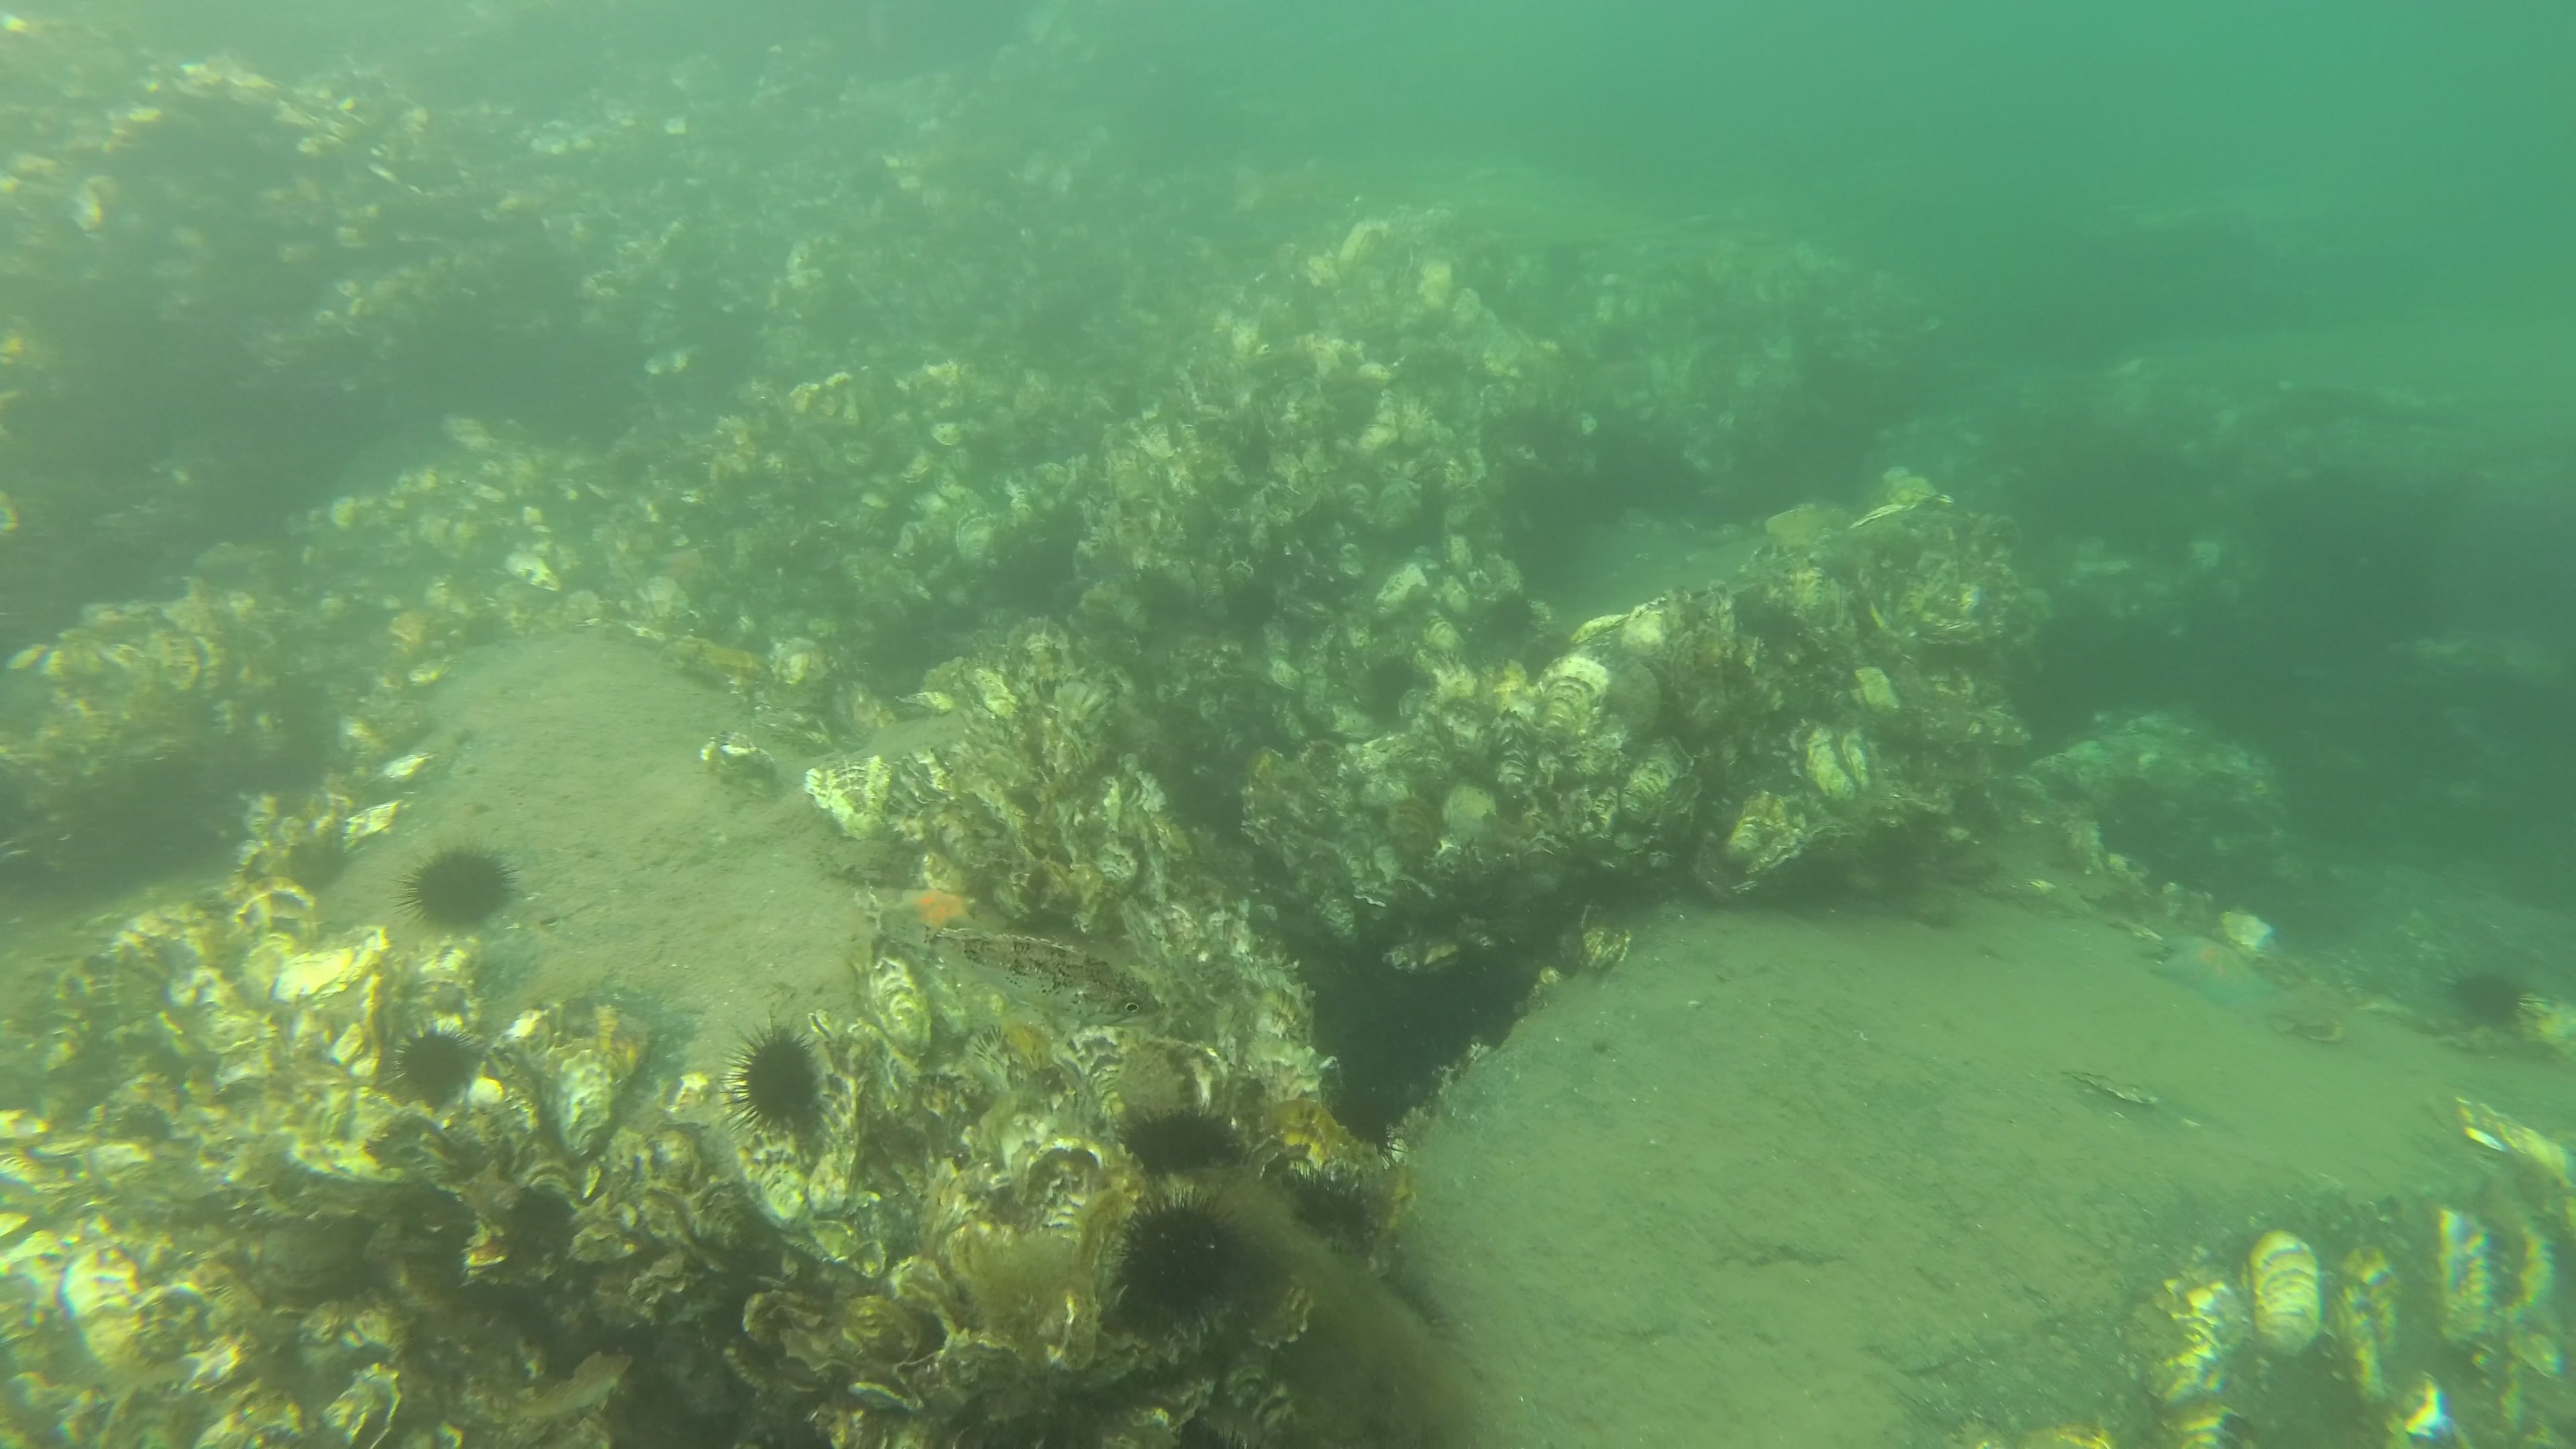echinus: (1108, 1194, 1258, 1329), (718, 1008, 830, 1148), (1111, 1097, 1263, 1180), (396, 839, 525, 932), (380, 1016, 490, 1113)
starfish: (2139, 927, 2282, 1016), (879, 876, 989, 947)
